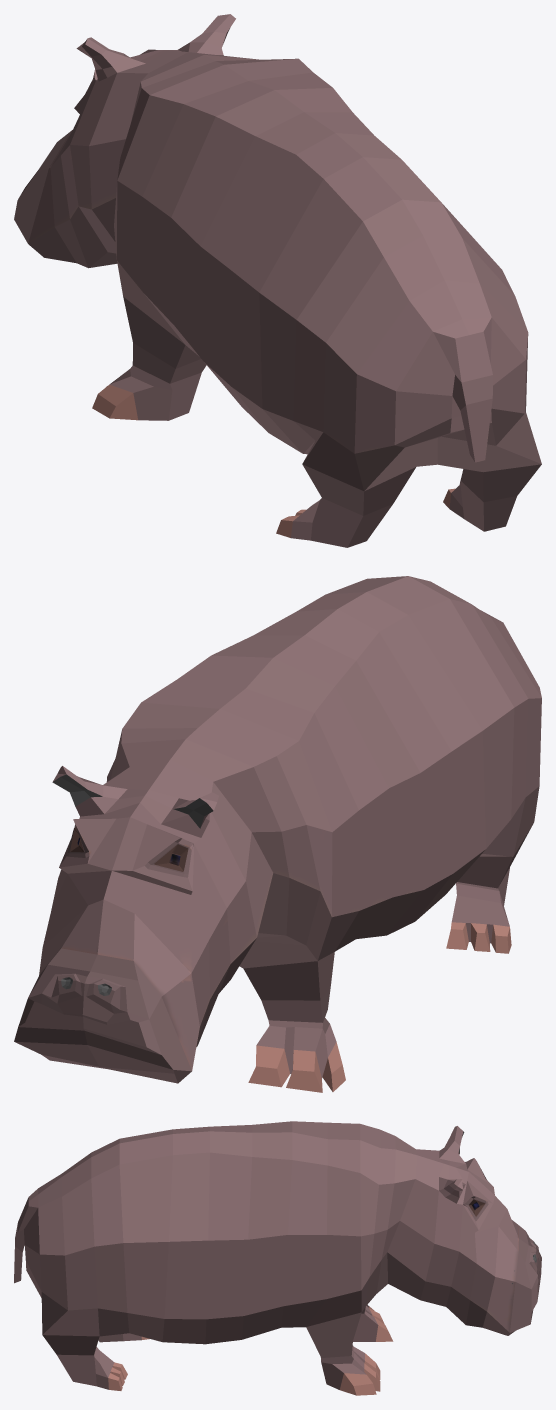
File: Hippo.fbx
The picture shows the model from 3 angles, top to bottom: view 1: azimuth 30°, elevation 25°; view 2: azimuth 150°, elevation 25°; view 3: azimuth 270°, elevation 25°; orthographic projection. The views are drawn at different scales.
Parts seen in each view (by area): view 1: hippo; view 2: hippo; view 3: hippo.
Boxes of the visible parts, box(x1,y1,x2,y2) form: hippo: box(14, 14, 541, 547); hippo: box(14, 576, 541, 1092); hippo: box(14, 1121, 541, 1395).
Size of the model in its own units: 93.91 by 131 by 276.
